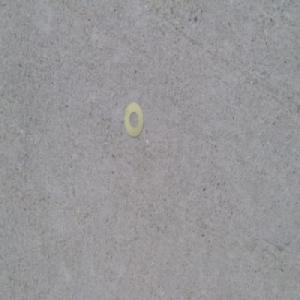Washer: (124, 103, 144, 140)
